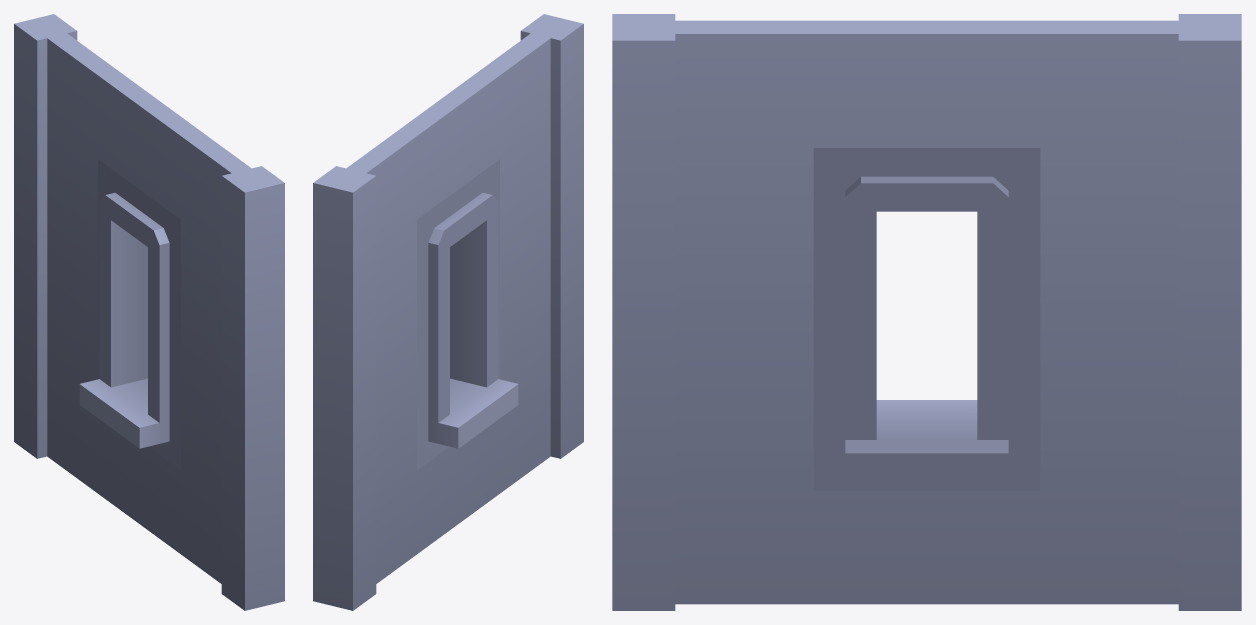
The model's file is window-kn-wall-wood-window-small.glb.
3 renders of one model, left to right at view 1: azimuth 30°, elevation 25°; view 2: azimuth 150°, elevation 25°; view 3: azimuth 270°, elevation 25°, orthographic. The views are drawn at different scales.
Visible parts, largest first — view 1: wall-wood-window-small; view 2: wall-wood-window-small; view 3: wall-wood-window-small.
Boxes of the visible parts, x1,y1,x2,y2 form: wall-wood-window-small: (14,14,284,610); wall-wood-window-small: (313,14,583,610); wall-wood-window-small: (612,14,1241,610).
Bounding box in the file's own units: 0.6 × 3 × 3.
Materials: 1 (1 with a texture image).
